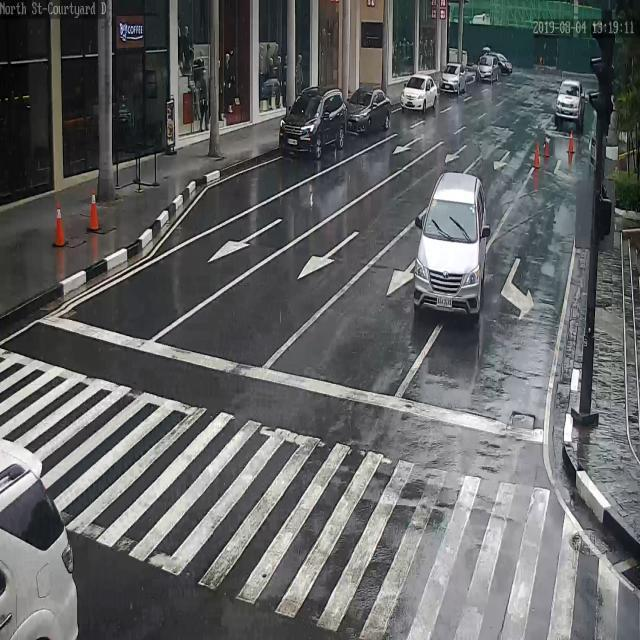car: (0, 440, 78, 640), (413, 172, 488, 312), (279, 85, 349, 157), (343, 87, 392, 136), (400, 72, 437, 114), (554, 78, 585, 124), (440, 61, 468, 96), (476, 53, 499, 80)
